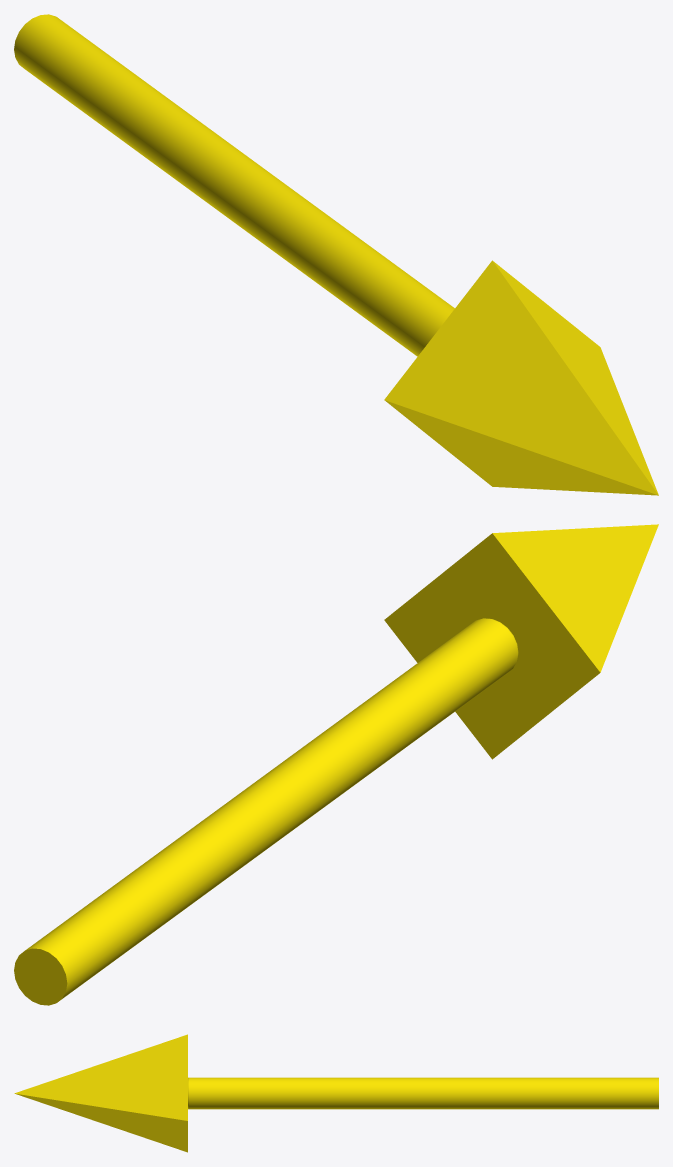
Rendered from IndicadorFuerzaIndividual.fbx.
The picture shows the model from 3 angles, top to bottom: view 1: azimuth 30°, elevation 25°; view 2: azimuth 150°, elevation 25°; view 3: azimuth 270°, elevation 25°; orthographic projection. The views are drawn at different scales.
Parts seen in each view (by area): view 1: Punta, Cuerpo; view 2: Cuerpo, Punta; view 3: Cuerpo, Punta.
Boxes of the visible parts, x1,y1,x2,y2 form: Punta: (384,260,658,495); Cuerpo: (14,14,454,356); Cuerpo: (14,618,518,1005); Punta: (384,524,658,759); Cuerpo: (188,1077,658,1109); Punta: (14,1034,187,1152).
Bounding box in the file's own units: 6.09 × 6.09 × 30.12.
